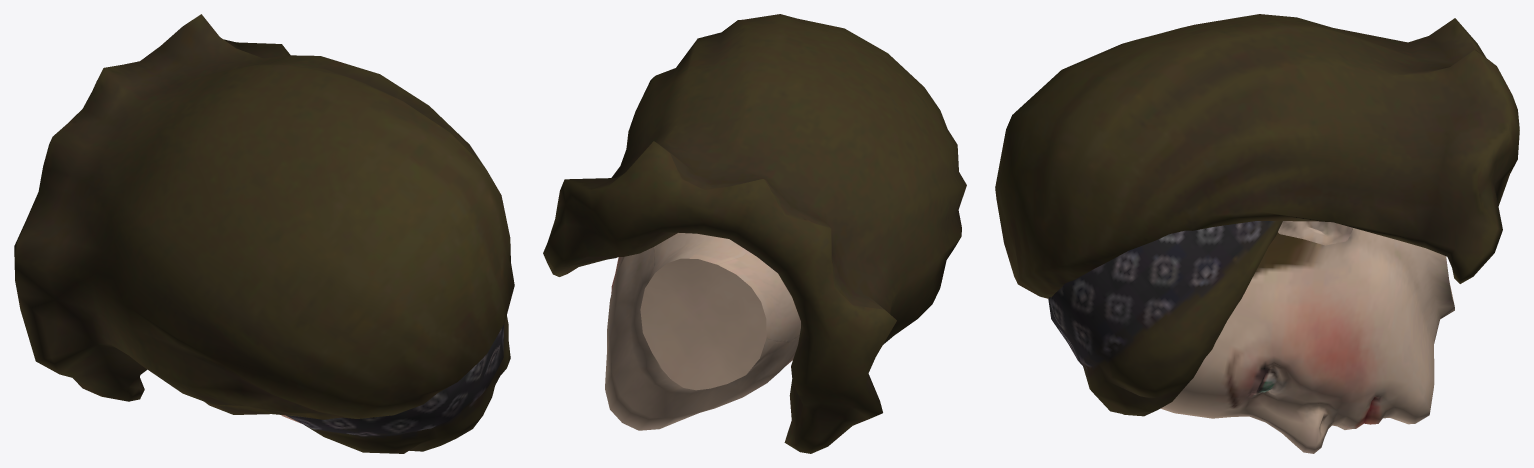
The model's file is dest_nt_nuked_female_02_head_LOD0.obj.
3 renders of one model, left to right at view 1: azimuth 30°, elevation 25°; view 2: azimuth 150°, elevation 25°; view 3: azimuth 270°, elevation 25°, orthographic. The views are drawn at different scales.
Parts seen in each view (by area): view 1: mtl_nt_2020_manne_fem01_hair1; view 2: mtl_nt_2020_manne_fem01_hair1, mtl_nt_2020_manne_fem01_head1; view 3: mtl_nt_2020_manne_fem01_hair1, mtl_nt_2020_manne_fem01_head1.
Boxes of the visible parts, bbox=[...] form: mtl_nt_2020_manne_fem01_hair1: bbox=[14, 14, 514, 453]; mtl_nt_2020_manne_fem01_hair1: bbox=[543, 14, 966, 453]; mtl_nt_2020_manne_fem01_head1: bbox=[605, 233, 800, 430]; mtl_nt_2020_manne_fem01_hair1: bbox=[995, 14, 1519, 416]; mtl_nt_2020_manne_fem01_head1: bbox=[1161, 221, 1454, 453].
Bounding box in the file's own units: 27.87 × 26.17 × 32.91.
